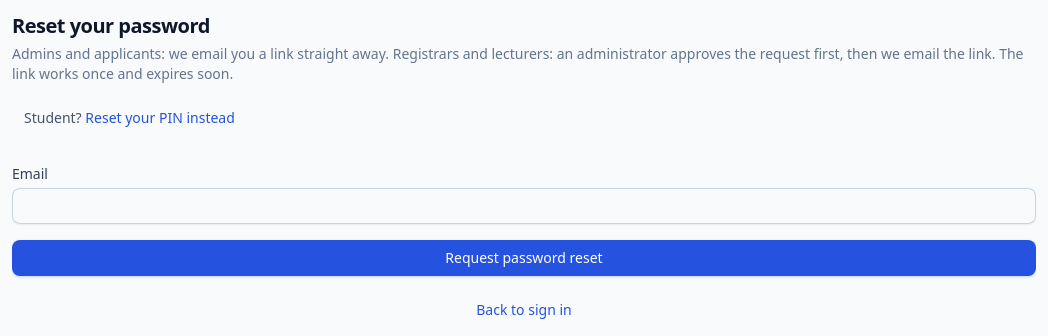
Test: ForgotPassword › shows the generic success message after submitting, regardless of what the account turns out to be
Type "someone@example.com" into the field labelled "Email". click: x=524, y=206
box: left=12, top=188, right=1036, bottom=224
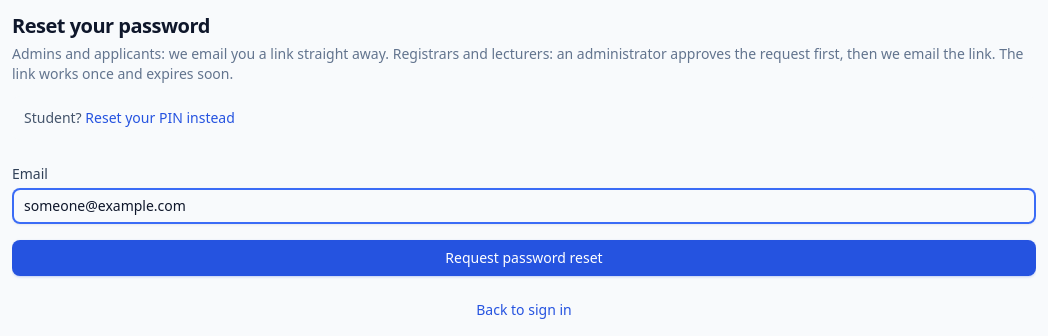
Click the button "Request password reset". click: x=524, y=258
box: left=12, top=240, right=1036, bottom=276
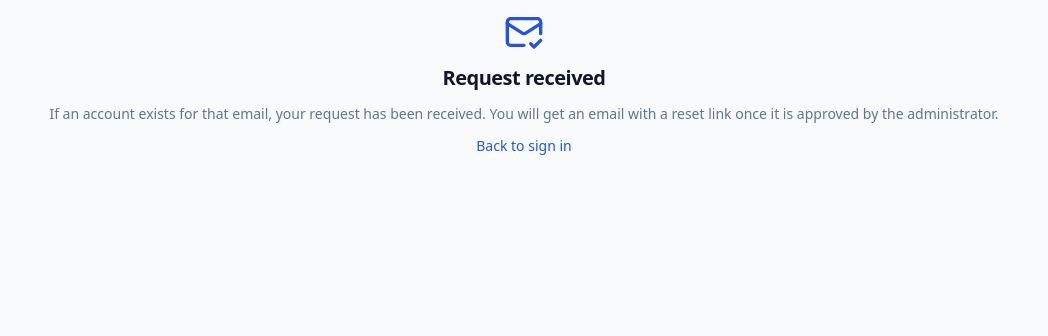
Now the text "If an account exists for that email, your request has been received. You will get an email with a reset link once it is " is shown, box left=49, top=104, right=998, bottom=123
